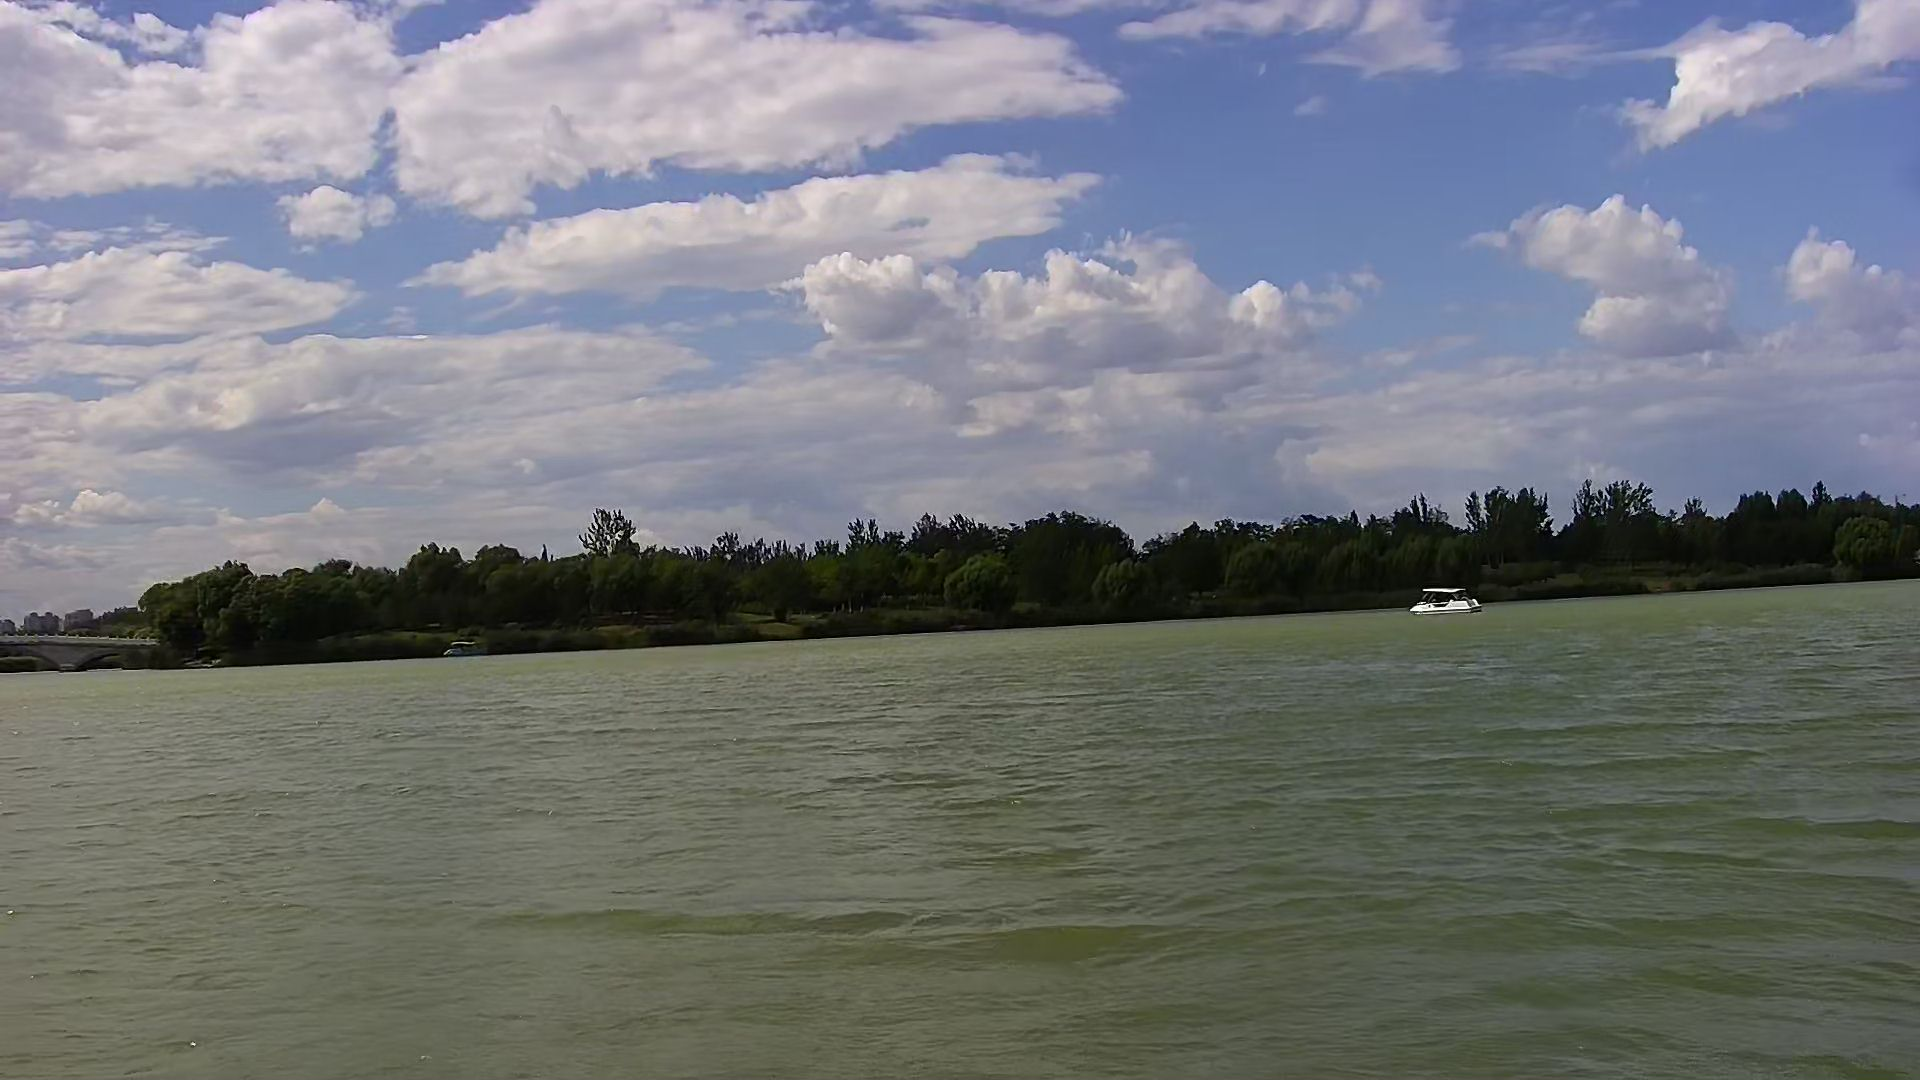boat: (1407, 585, 1485, 617), (440, 636, 495, 659)
bridge: (1, 630, 164, 670)
